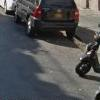Motorcycle: (71, 30, 100, 87)
